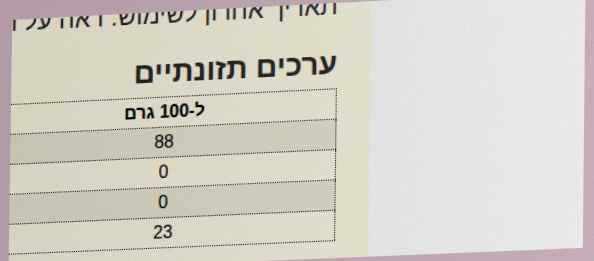carbs: (151, 220, 175, 245)
energy: (152, 129, 176, 154)
fat: (156, 190, 171, 214)
protein: (156, 160, 171, 184)
